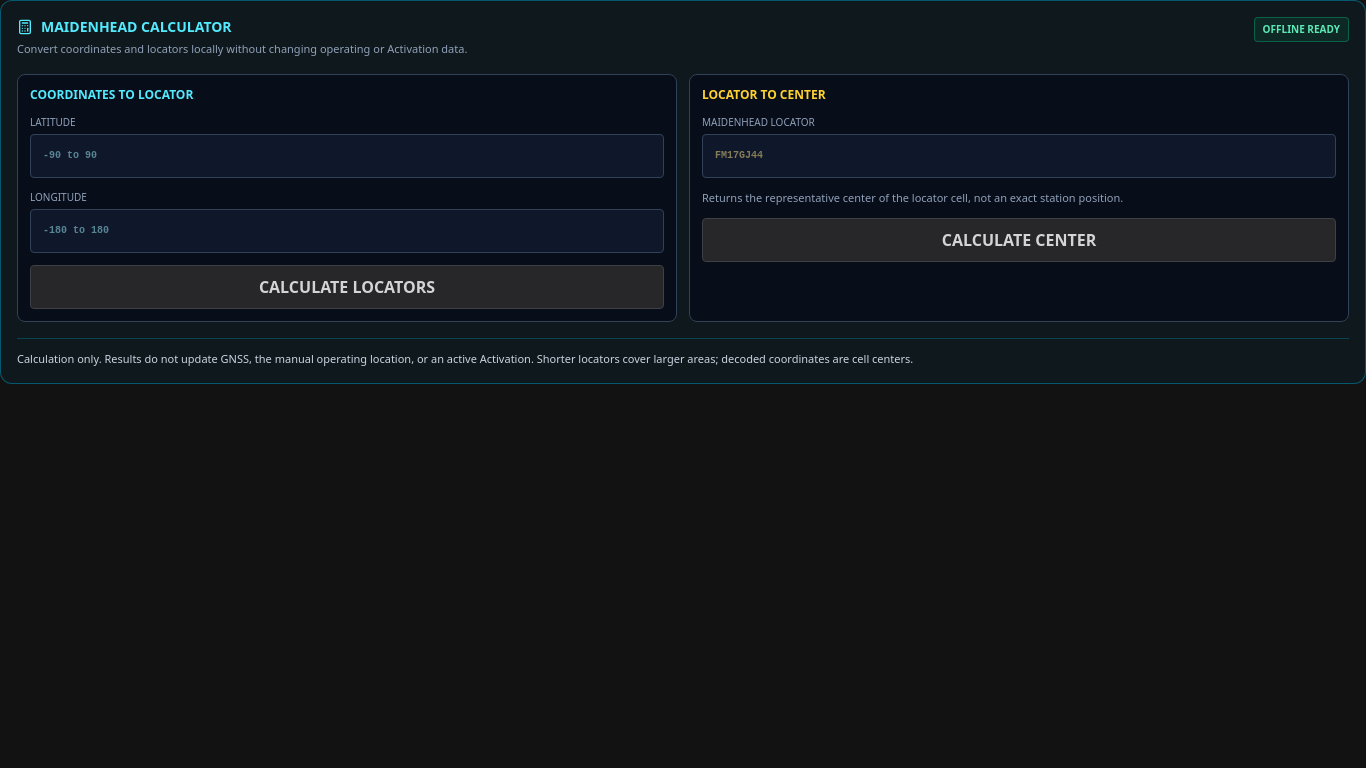
Test: Maidenhead calculator › calculates all supported locator precisions without mutating its operating-location input
Step 1. Type "0" into the field named "Maidenhead latitude" → [347, 156], box [30,134,664,178]
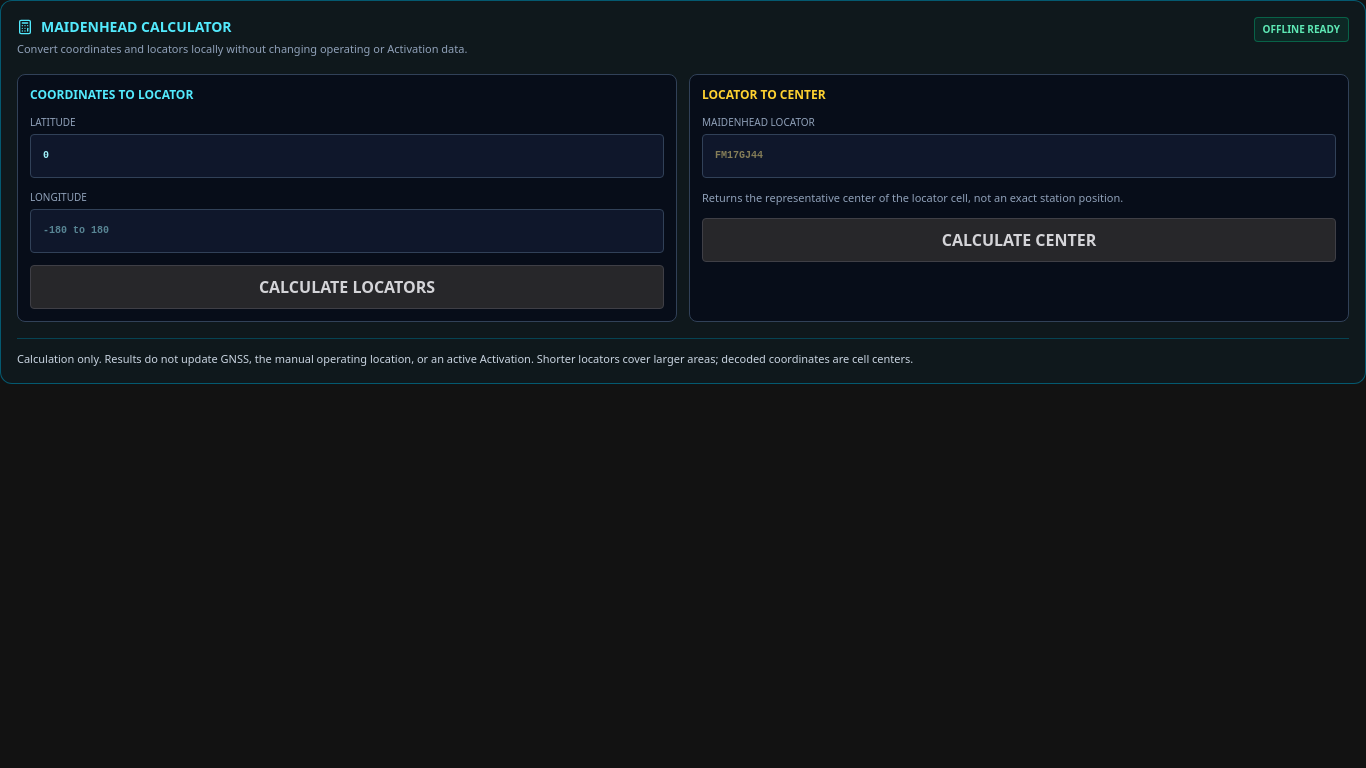
Step 2. Type "0" into the field named "Maidenhead longitude" → [347, 230], box [30,208,664,252]
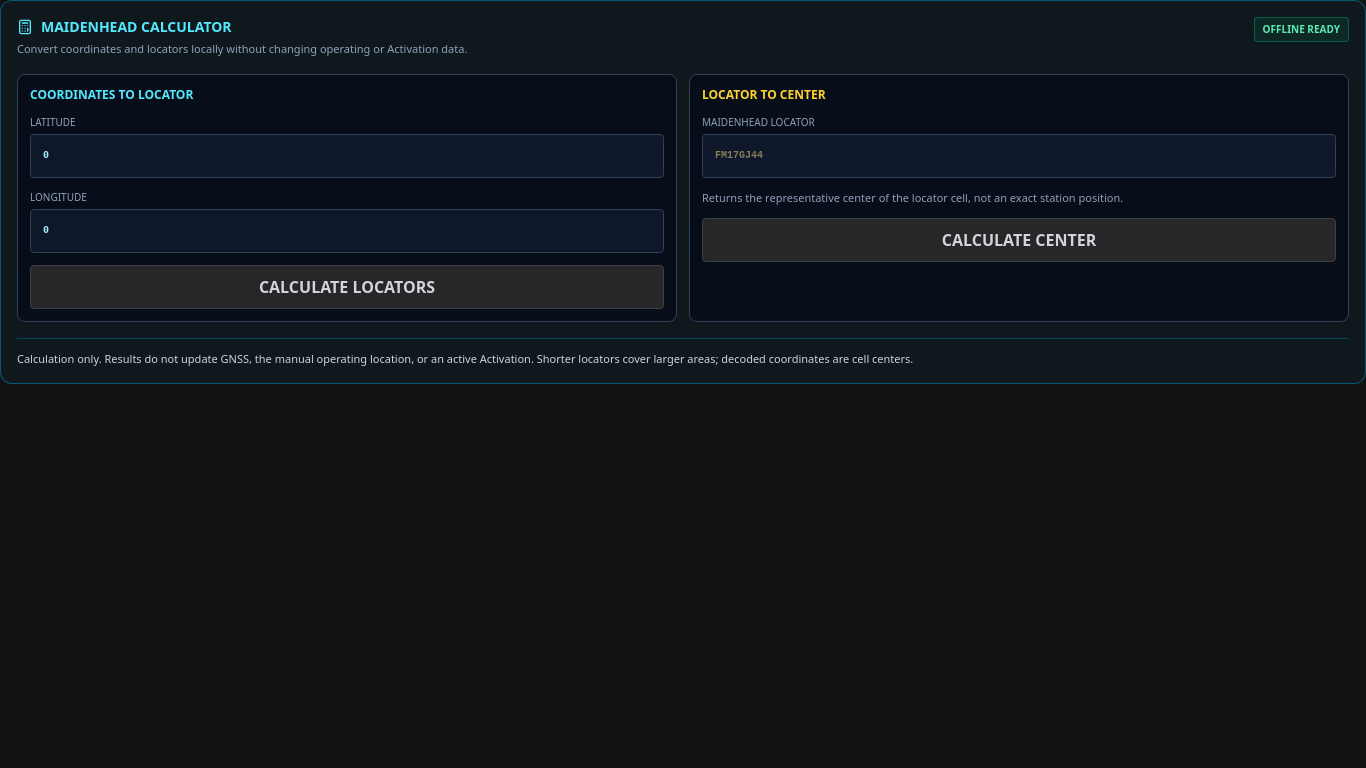
Step 3. Click the button "CALCULATE LOCATORS" → [347, 286], box [30,264,664,308]
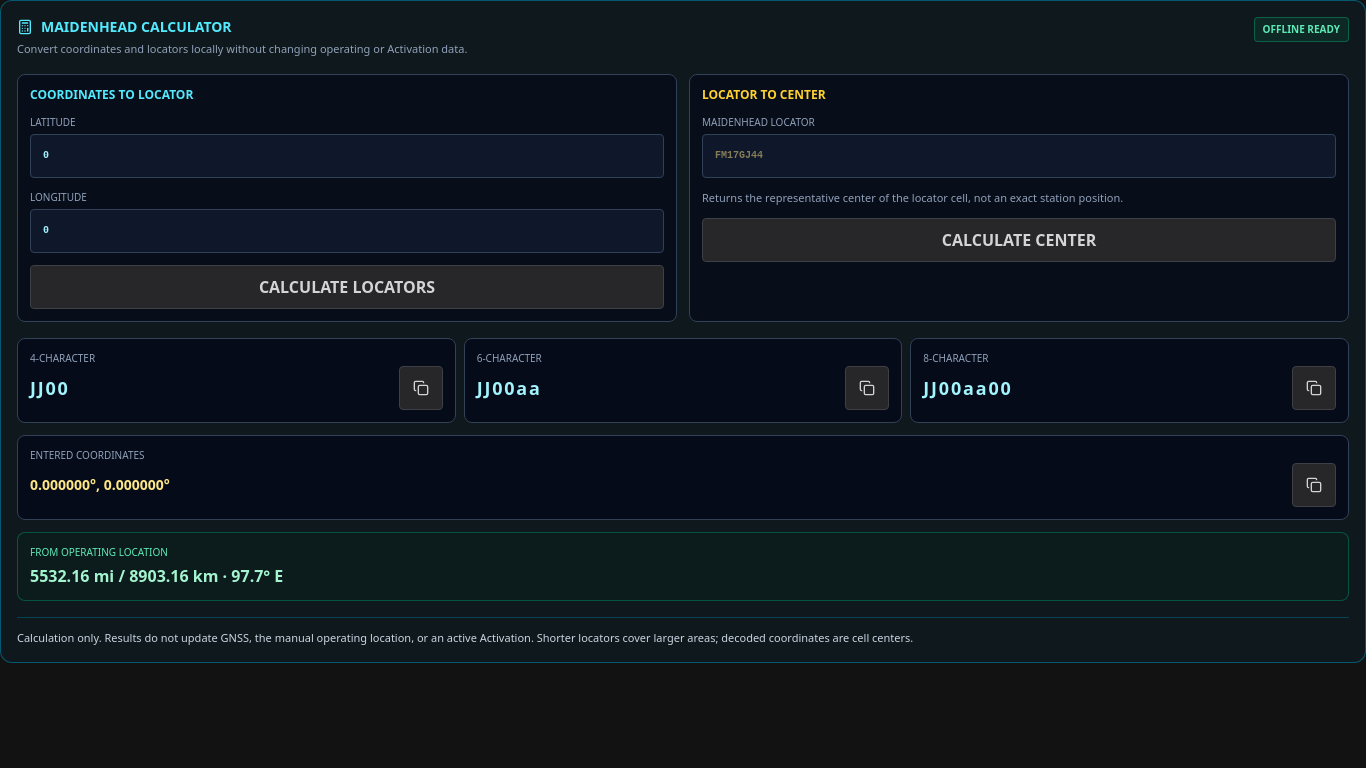
expect the text "JJ00" is shown: met, box [30,374,70,402]
expect the text "JJ00aa" is shown: met, box [477,374,542,402]
expect the text "JJ00aa00" is shown: met, box [923,374,1013,402]
